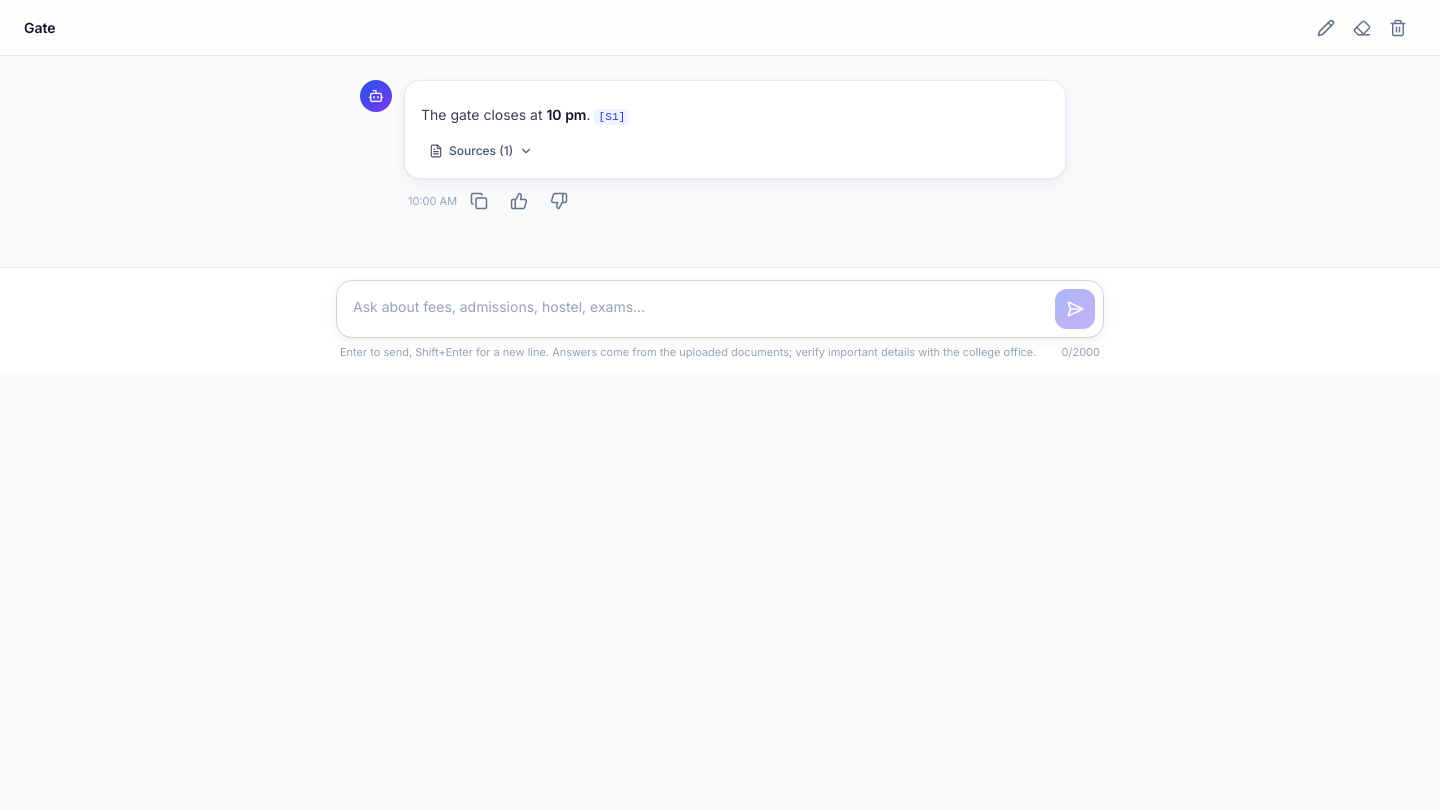
it: Chat page › renames a chat from the header
This screenshot has width=1440, height=810.
Click the button named "Rename chat".
click(1326, 28)  # box [1308,10,1344,46]
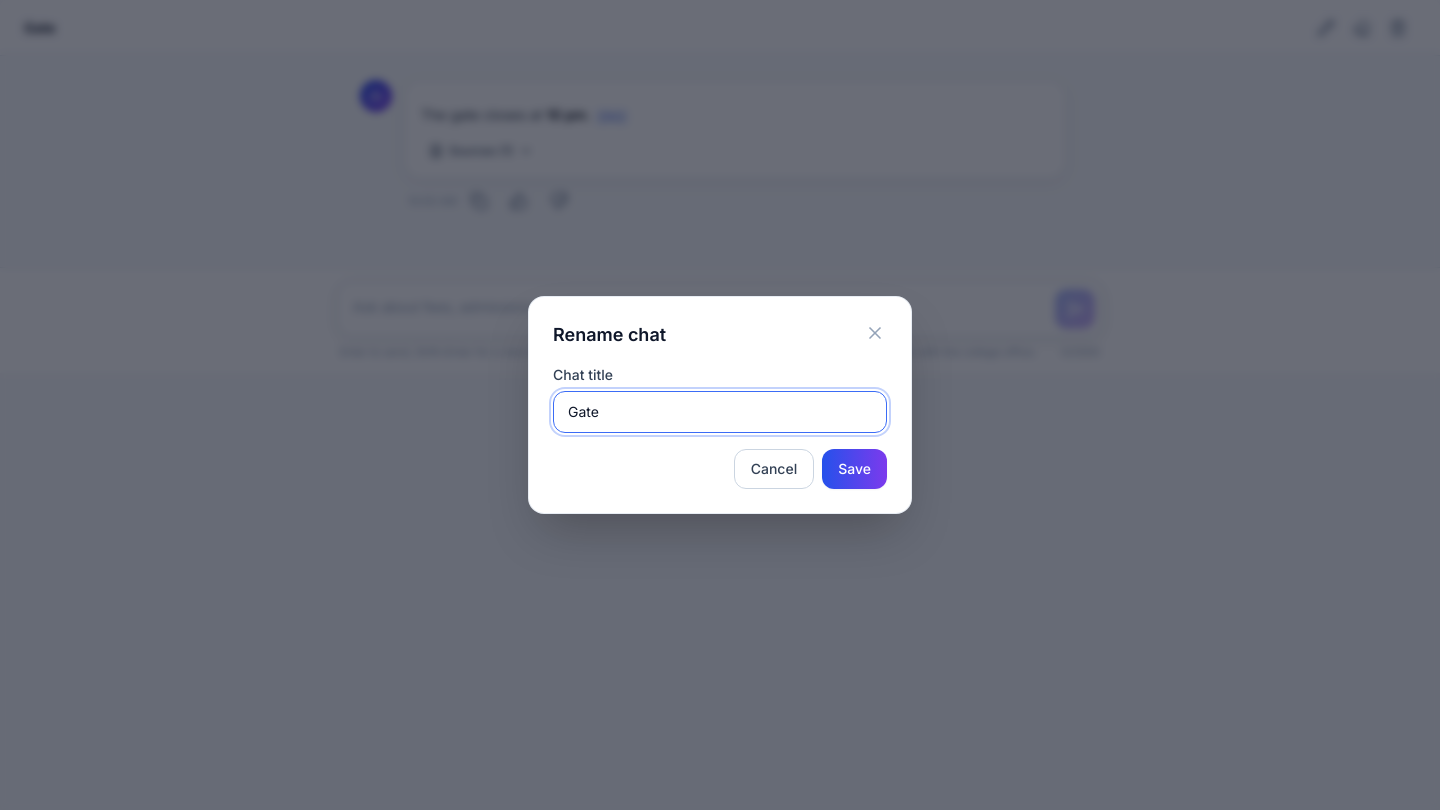
Replace the text in the field labelled "Chat title" with "Hostel timings" at [720, 412], box [553,391,887,433]
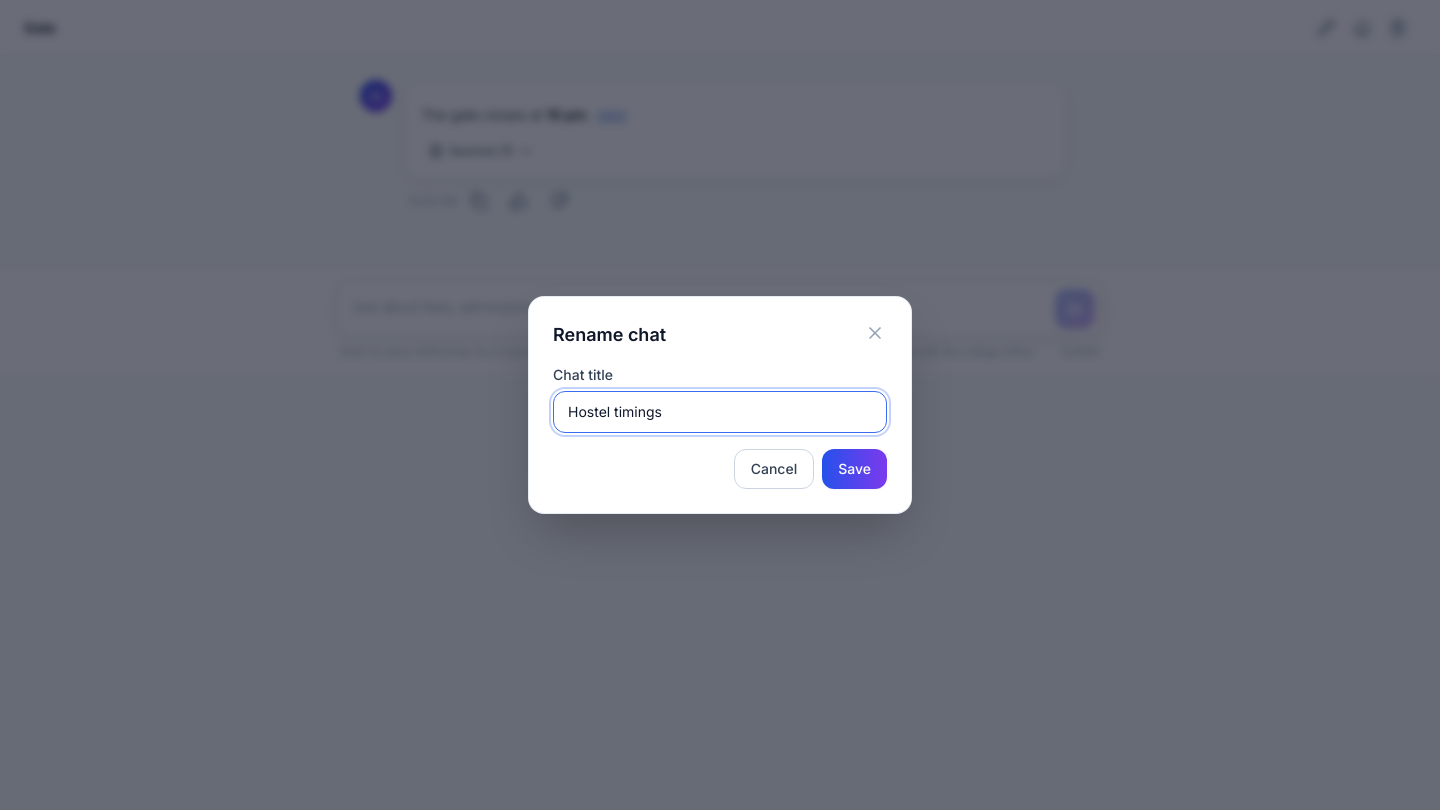
Click the button "Save".
click(855, 469)  # box [822,449,887,489]
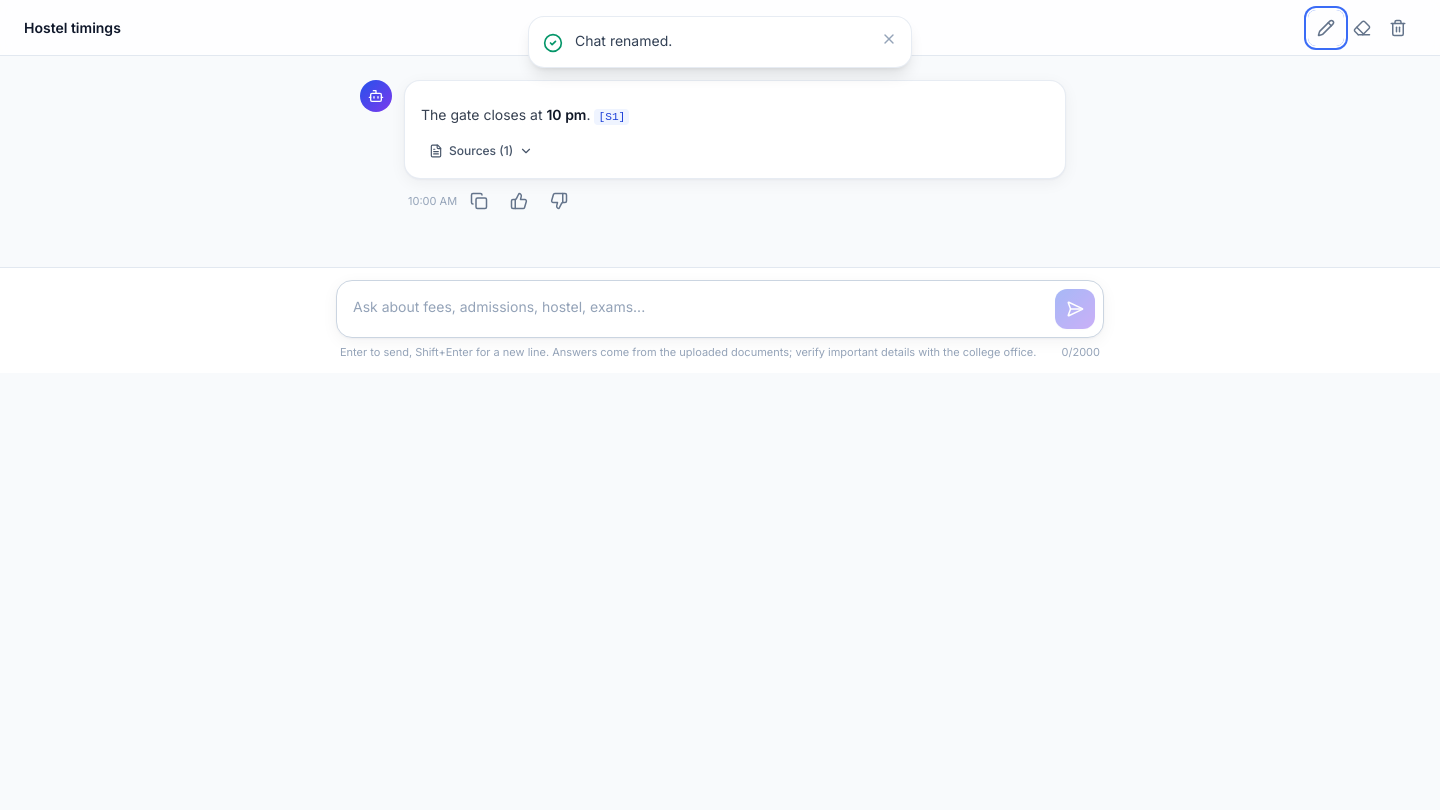
Expected: the heading "Hostel timings" is shown, [24,18,121,38]
